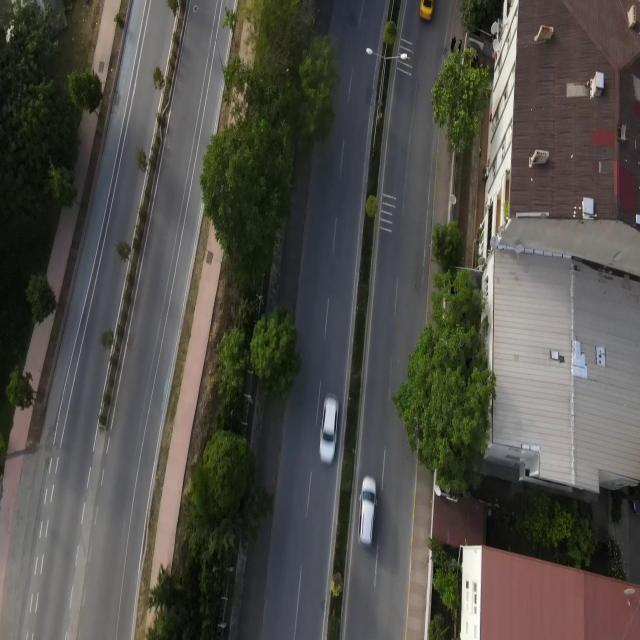p3rson: (450, 35, 456, 53), (458, 37, 462, 55)
